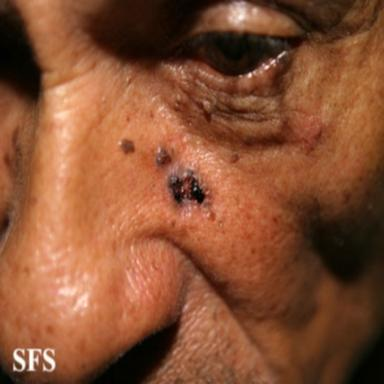basal-cell-carcinoma: (153, 145, 221, 224)
